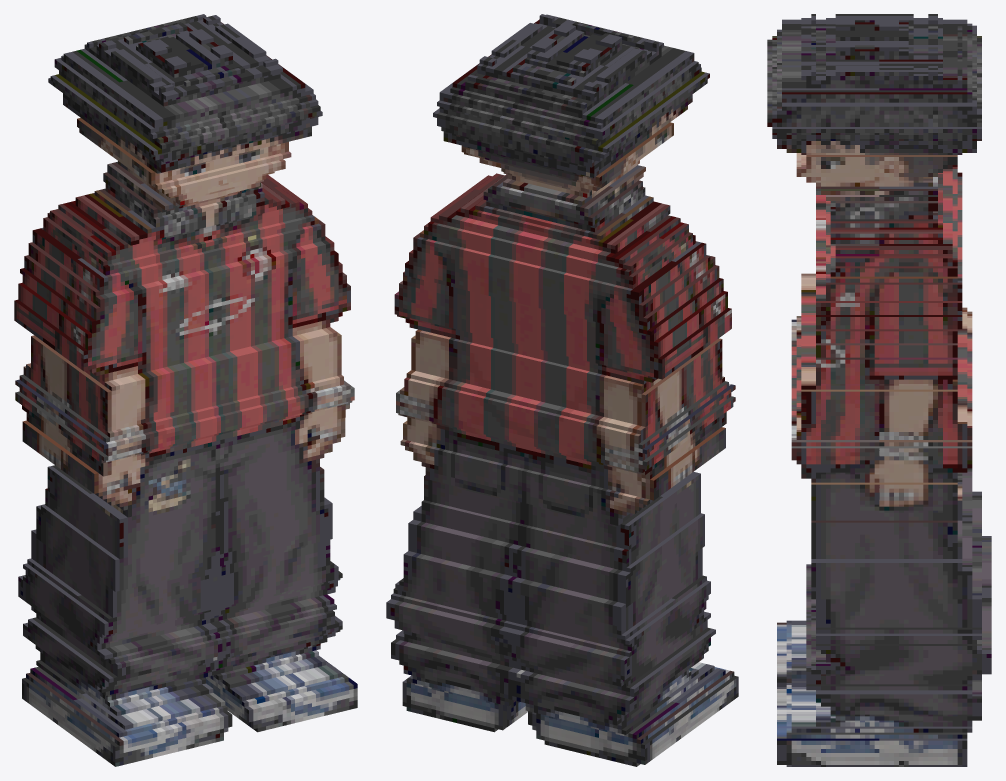
File: eldoria_vermelho_3d_autoral.glb
3 views of the same model, side by side, from view 1: azimuth 30°, elevation 25°; view 2: azimuth 150°, elevation 25°; view 3: azimuth 270°, elevation 25° (orthographic).
Parts seen in each view (by area): view 1: eldoria_vermelho; view 2: eldoria_vermelho; view 3: eldoria_vermelho.
Boxes of the visible parts, left/top/right/bottom form: eldoria_vermelho: left=14, top=14, right=357, bottom=766; eldoria_vermelho: left=386, top=14, right=738, bottom=766; eldoria_vermelho: left=767, top=14, right=991, bottom=766.
Bounding box in the file's own units: 0.768 × 1.82 × 0.5485.
